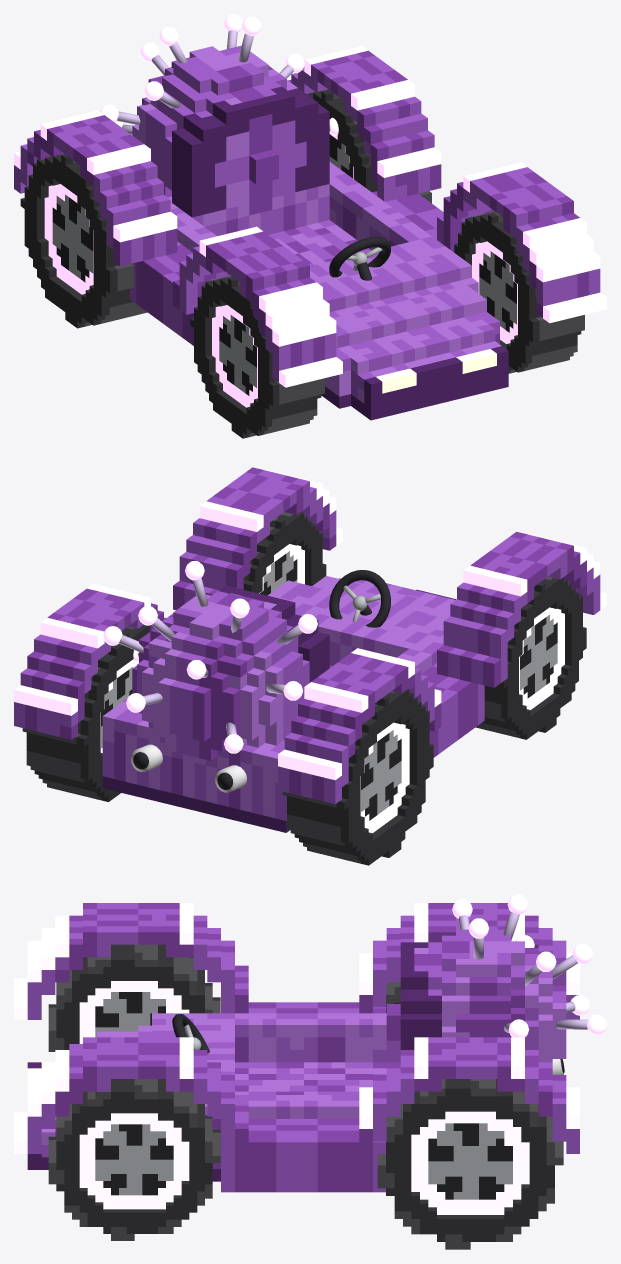
The model's file is K05_VirusBuggy.glb.
The picture shows the model from 3 angles, top to bottom: view 1: azimuth 30°, elevation 25°; view 2: azimuth 150°, elevation 25°; view 3: azimuth 270°, elevation 25°; orthographic projection. The views are drawn at different scales.
Parts seen in each view (by area): view 1: K05_VirusBuggy_Mesh, K05_Wheel_RL, K05_Wheel_FL, K05_Wheel_FR, K05_Wheel_RR; view 2: K05_VirusBuggy_Mesh, K05_Wheel_RL, K05_Wheel_FL, K05_Wheel_RR, K05_Wheel_FR; view 3: K05_VirusBuggy_Mesh, K05_Wheel_RR, K05_Wheel_FR, K05_Wheel_FL.
Part boxes in pixels (x1,y1,x2,y2): K05_VirusBuggy_Mesh: (14,14,606,420); K05_Wheel_RL: (20,153,147,328); K05_Wheel_FL: (190,276,324,438); K05_Wheel_FR: (454,211,584,373); K05_Wheel_RR: (307,89,431,203); K05_VirusBuggy_Mesh: (14,467,606,832); K05_Wheel_RL: (282,688,433,865); K05_Wheel_FL: (475,576,586,739); K05_Wheel_RR: (22,624,151,801); K05_Wheel_FR: (243,512,326,595); K05_VirusBuggy_Mesh: (14,894,606,1192); K05_Wheel_RR: (377,1079,563,1249); K05_Wheel_FR: (48,1079,220,1240); K05_Wheel_FL: (48,944,220,1051).
Size of the model in its own units: 1.69 by 1.26 by 2.58.
